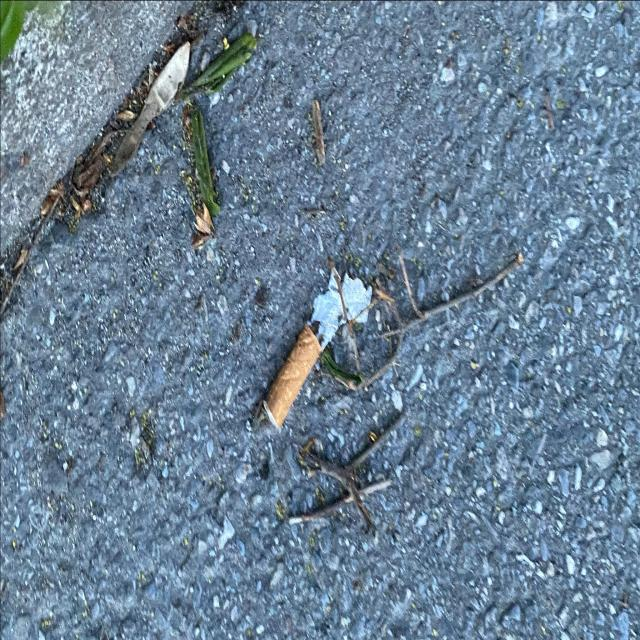other waste: (262, 266, 372, 430)
